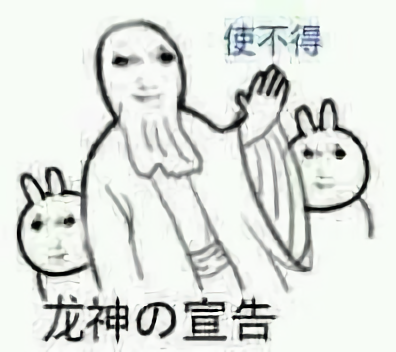dragon: (109, 46, 178, 106), (30, 214, 81, 265), (302, 144, 351, 194)
